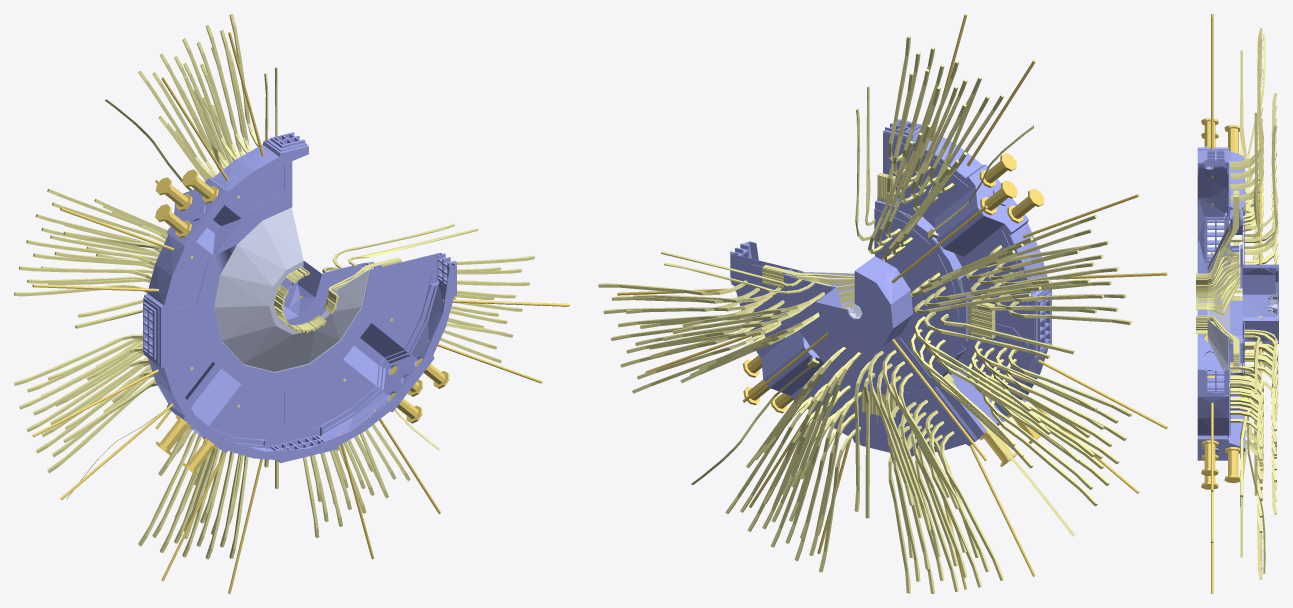
The model's file is pixel-pp1-side-C-cut3.glb.
The picture shows the model from 3 angles, left to right: view 1: azimuth 30°, elevation 25°; view 2: azimuth 150°, elevation 25°; view 3: azimuth 270°, elevation 25°; orthographic projection. The views are drawn at different scales.
Parts seen in each view (by area): view 1: _000001DDF34AD2E0_IndexedFaceSet, _000001DDF3269450_IndexedFaceSet, _000001DDF3840160_IndexedFaceSet, _000001DDF3EE45C0_IndexedFaceSet; view 2: _000001DDF3269450_IndexedFaceSet, _000001DDF34AD2E0_IndexedFaceSet, _000001DDF3EE45C0_IndexedFaceSet; view 3: _000001DDF3269450_IndexedFaceSet, _000001DDF34AD2E0_IndexedFaceSet, _000001DDF3EE45C0_IndexedFaceSet, _000001DDF3840160_IndexedFaceSet, _000001DDF383E5D0_IndexedFaceSet.
Part boxes in pixels (x1,y1,x2,y2): _000001DDF34AD2E0_IndexedFaceSet: [143, 132, 456, 462]; _000001DDF3269450_IndexedFaceSet: [14, 14, 534, 559]; _000001DDF3840160_IndexedFaceSet: [214, 207, 373, 372]; _000001DDF3EE45C0_IndexedFaceSet: [32, 32, 569, 593]; _000001DDF3269450_IndexedFaceSet: [598, 35, 1131, 593]; _000001DDF34AD2E0_IndexedFaceSet: [730, 119, 1051, 456]; _000001DDF3EE45C0_IndexedFaceSet: [617, 14, 1167, 589]; _000001DDF3269450_IndexedFaceSet: [1196, 27, 1278, 580]; _000001DDF34AD2E0_IndexedFaceSet: [1197, 147, 1278, 460]; _000001DDF3EE45C0_IndexedFaceSet: [1201, 14, 1261, 593]; _000001DDF3840160_IndexedFaceSet: [1207, 220, 1230, 383]; _000001DDF383E5D0_IndexedFaceSet: [1268, 293, 1277, 315].
Bounding box in the file's own units: 2.54 × 2.54 × 0.3741.
